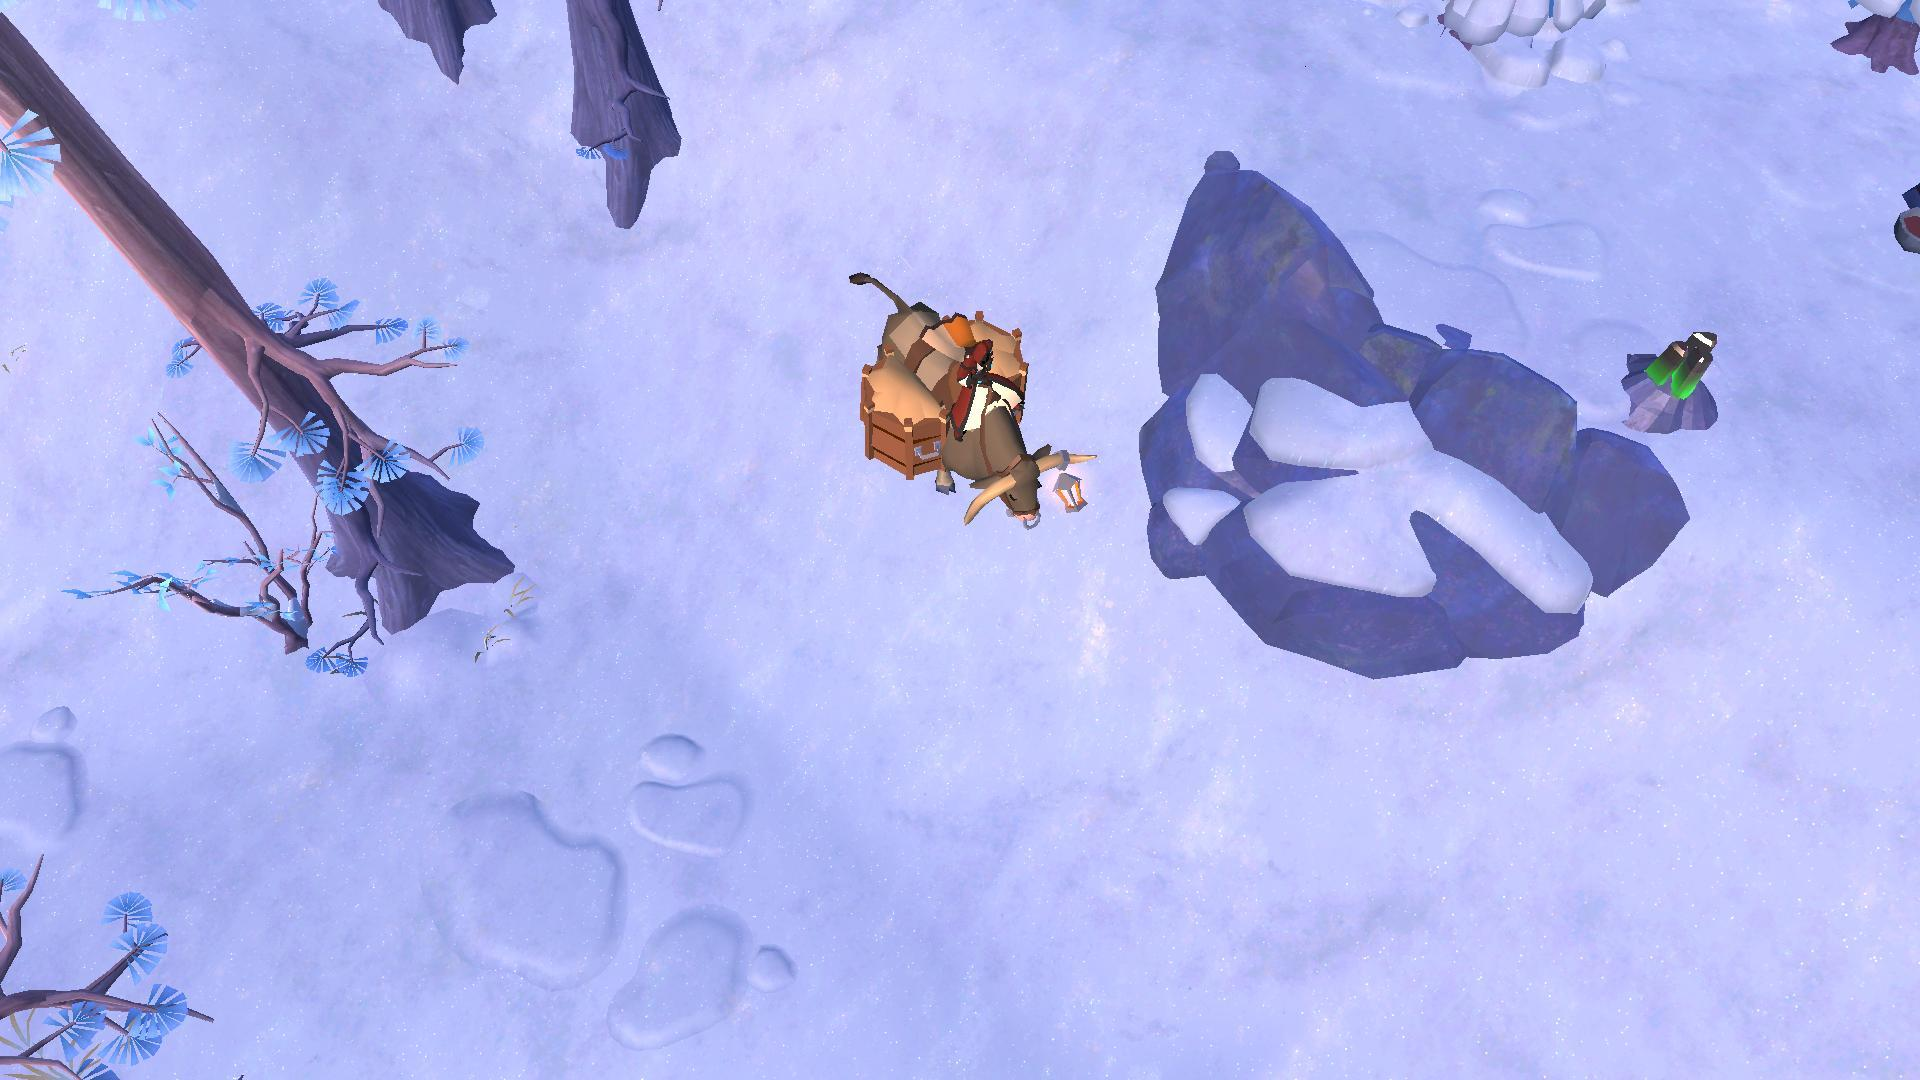ore_t3: (1643, 319, 1717, 405)
